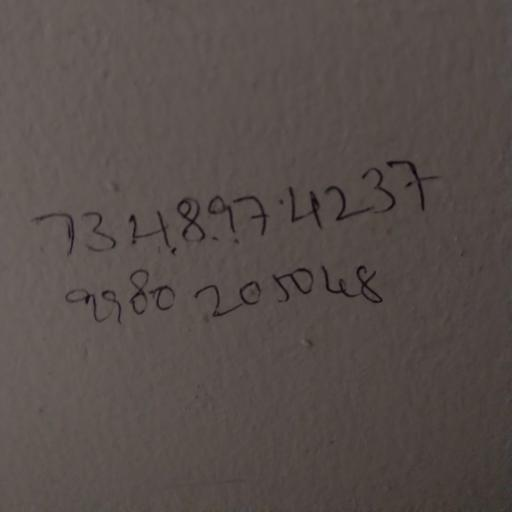stain: (31, 152, 454, 336)
